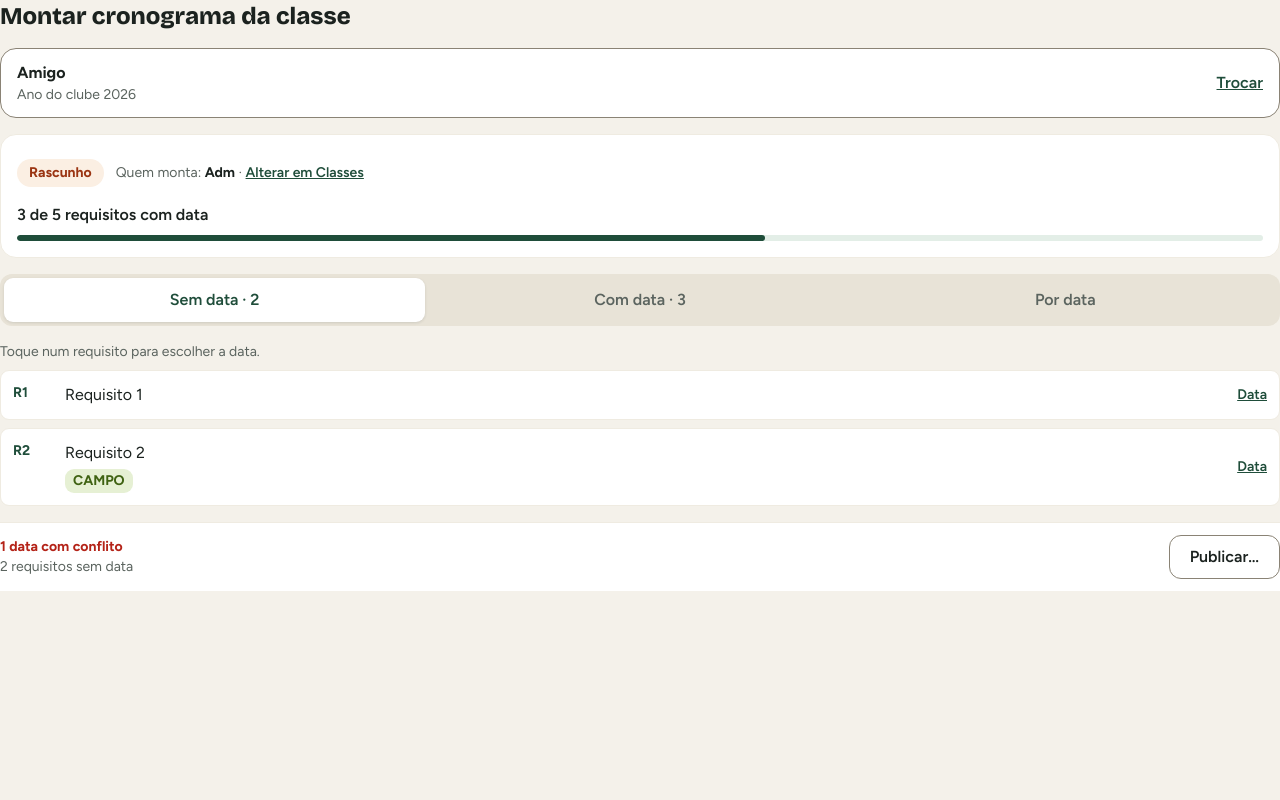
Scenario: A7 celular · depois de colocar › 409 no Desfazer e "Atualizar": o Desfazer pendente some
This screenshot has width=1280, height=800.
Expected: the text "3 de 5 requisitos com data" is shown, [17, 205, 208, 224]
Click the button "R1 Requisito 1 Data" at (104, 394), box [0, 370, 1279, 420]
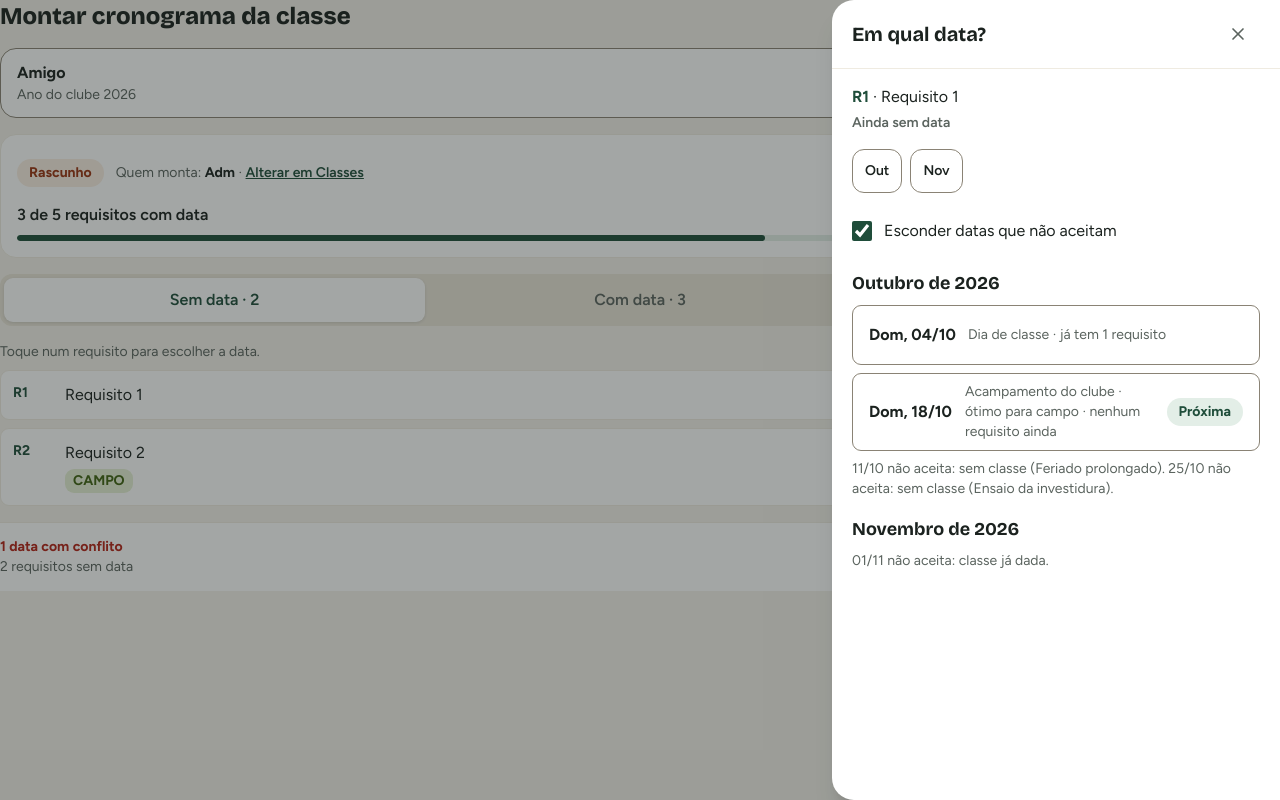
Click the button that starts with "Dom, 18/10" at (1056, 412), box [852, 373, 1260, 451]
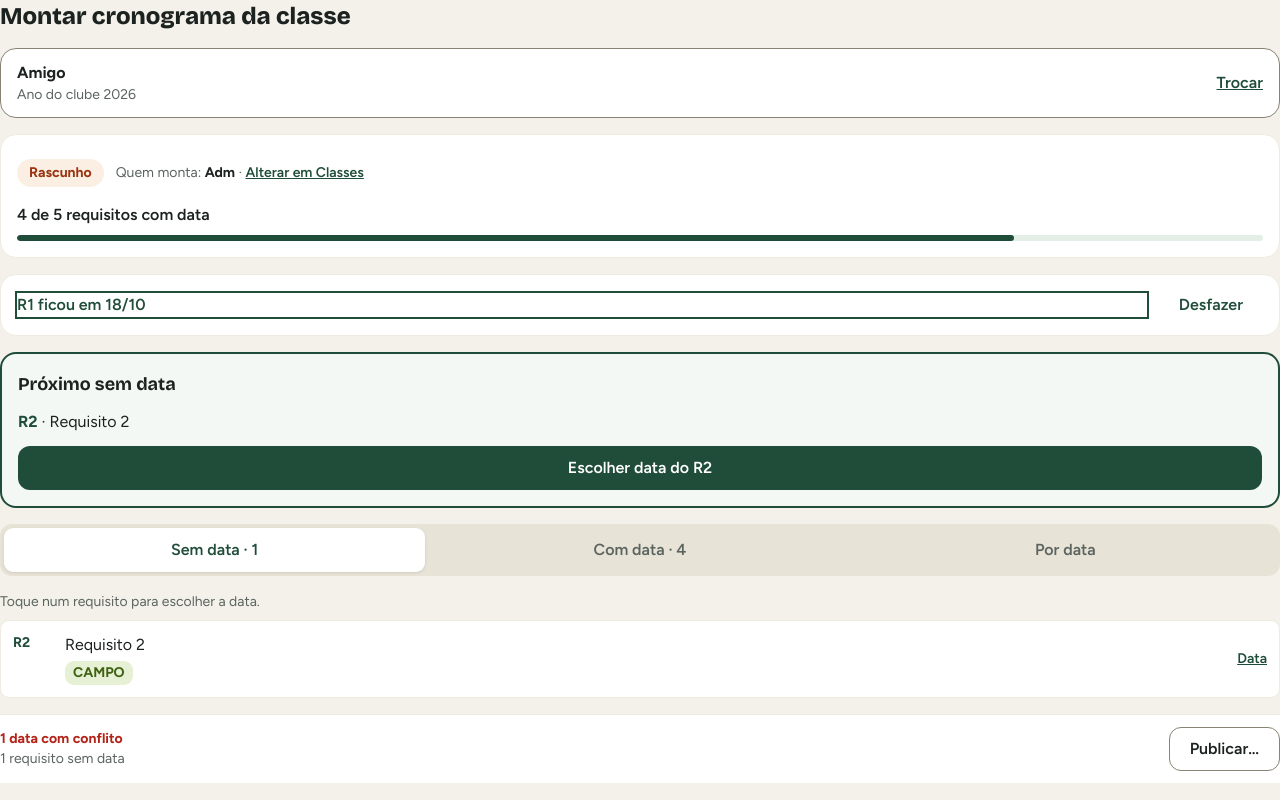
Click the button "Desfazer" at (1211, 305), box [1159, 283, 1263, 327]
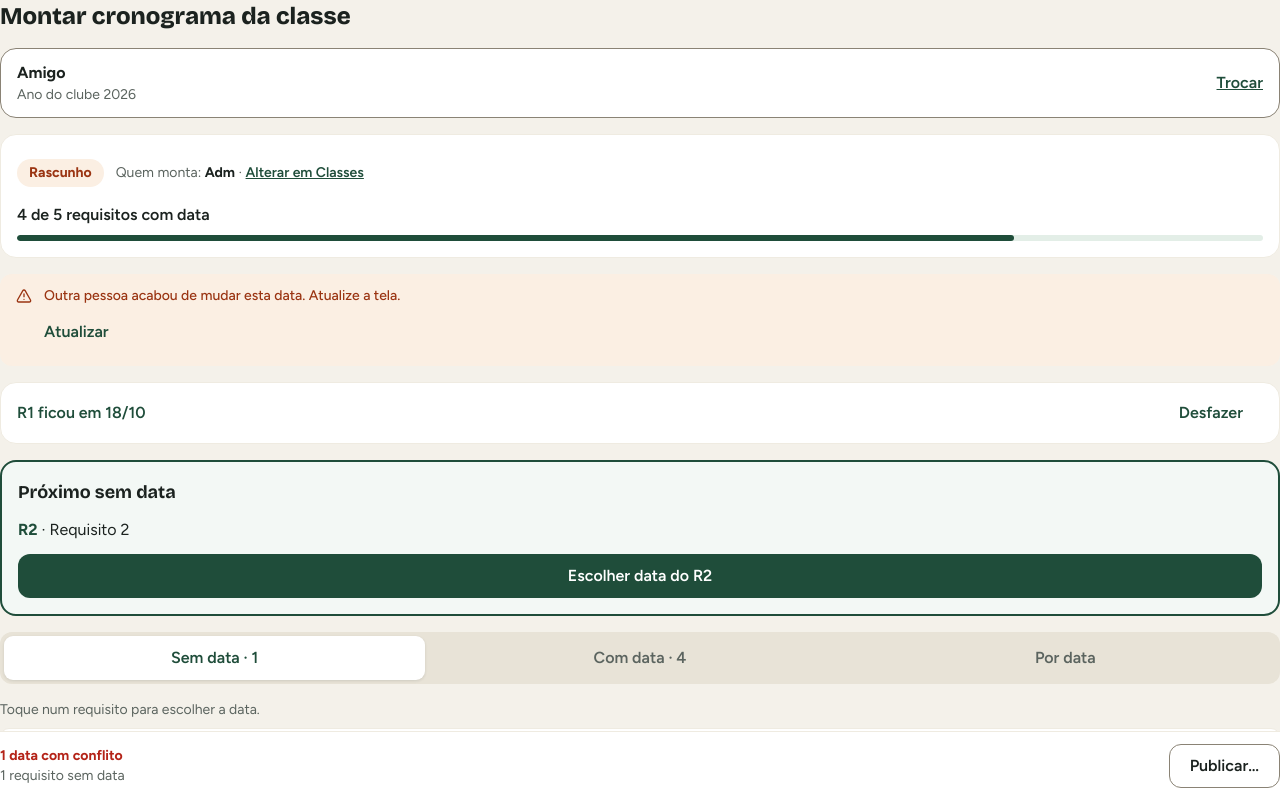
Click the button "Atualizar" at (76, 332), box [24, 310, 129, 354]
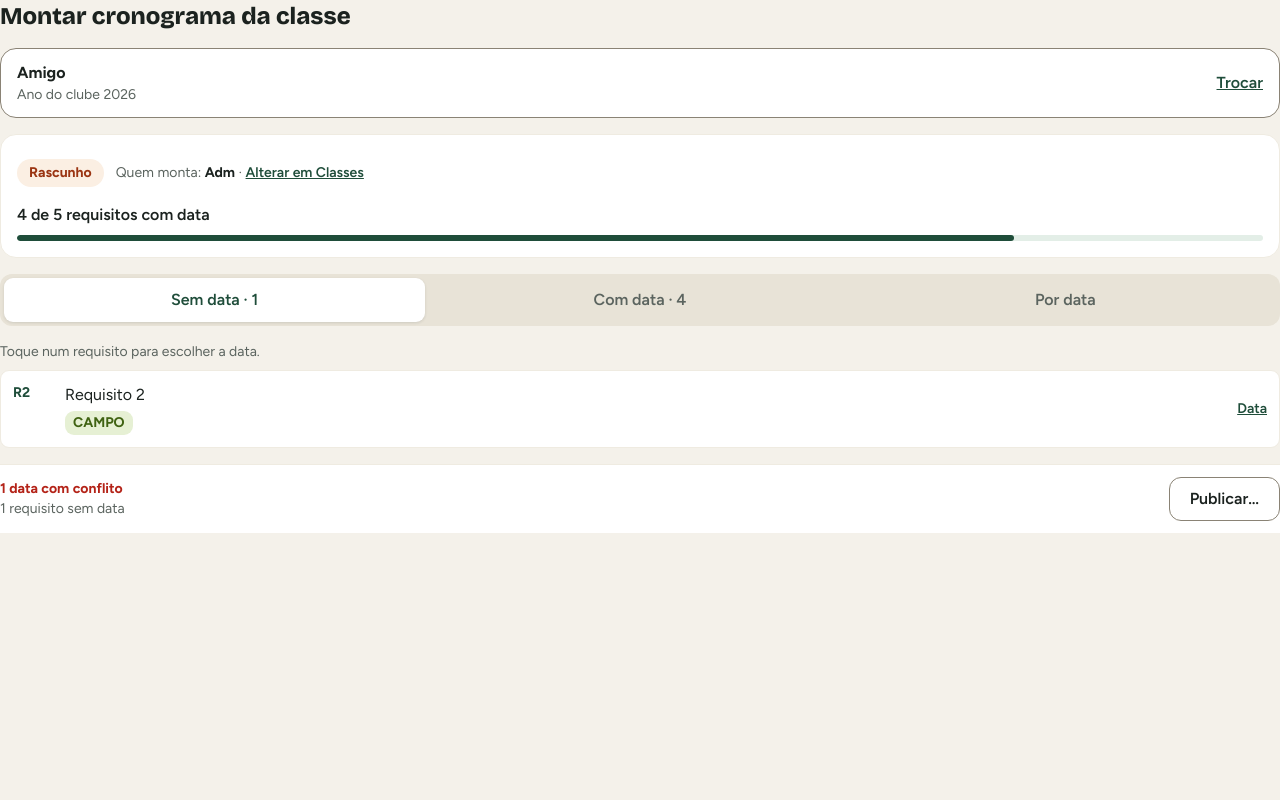
Expected: the button "Desfazer" is gone
